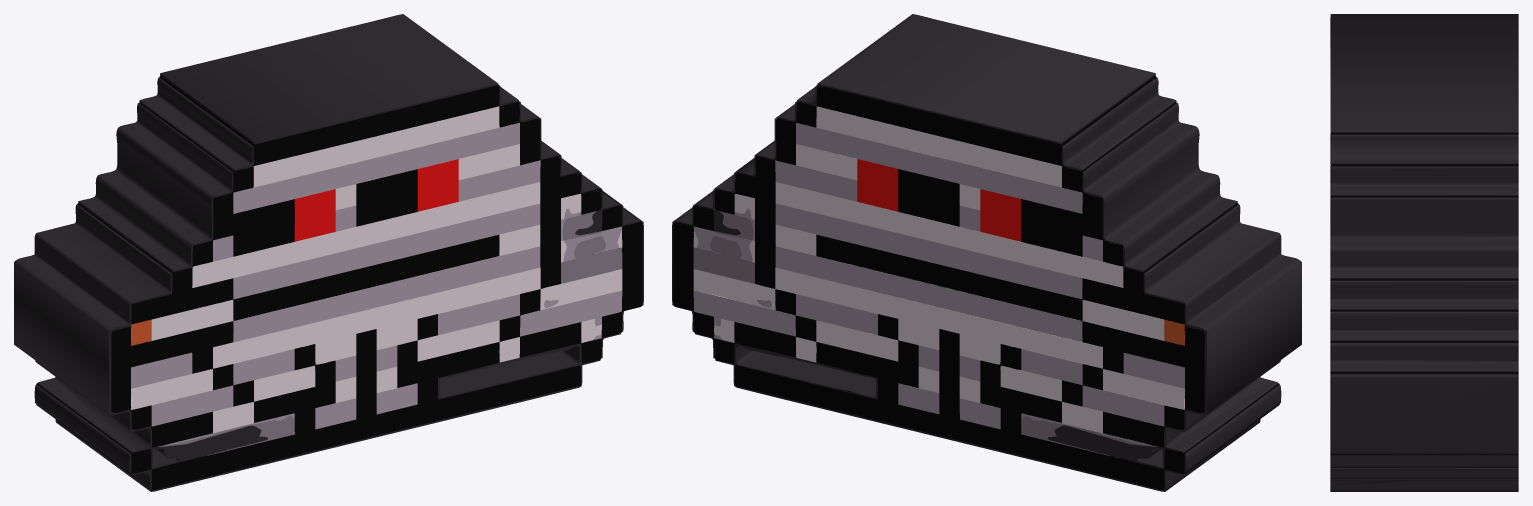
Rendered from Toadz_5106.glb.
3 views of the same model, side by side, from view 1: azimuth 30°, elevation 25°; view 2: azimuth 150°, elevation 25°; view 3: azimuth 270°, elevation 25° (orthographic).
Visible parts, largest first — view 1: Curve; view 2: Curve; view 3: Curve.
Boxes of the visible parts, left/top/right/bottom form: Curve: left=14, top=14, right=643, bottom=491; Curve: left=672, top=14, right=1301, bottom=491; Curve: left=1330, top=14, right=1518, bottom=491.
Size of the model in its own units: 3.25 by 1.89 by 1.
